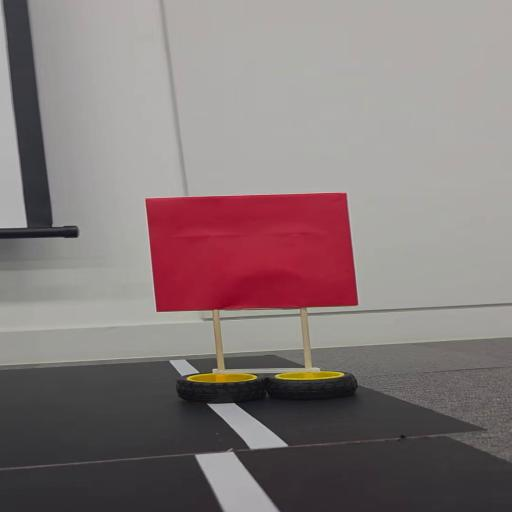Sign_A: (142, 192, 384, 404)
